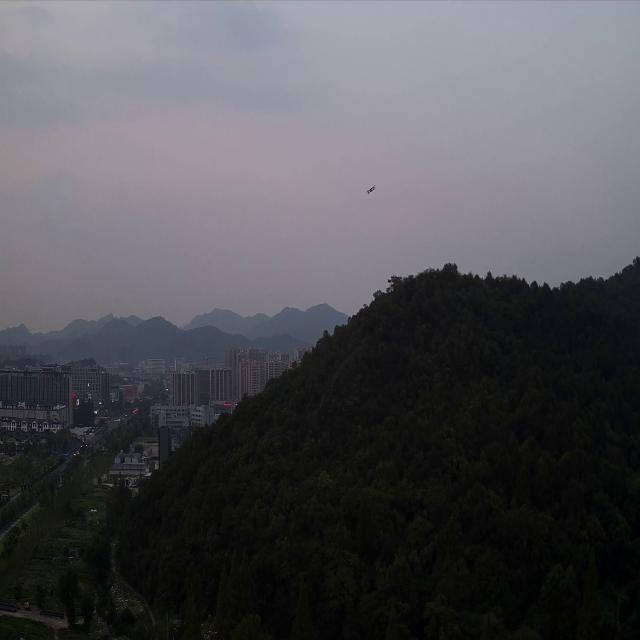drone: (366, 184, 376, 194)
